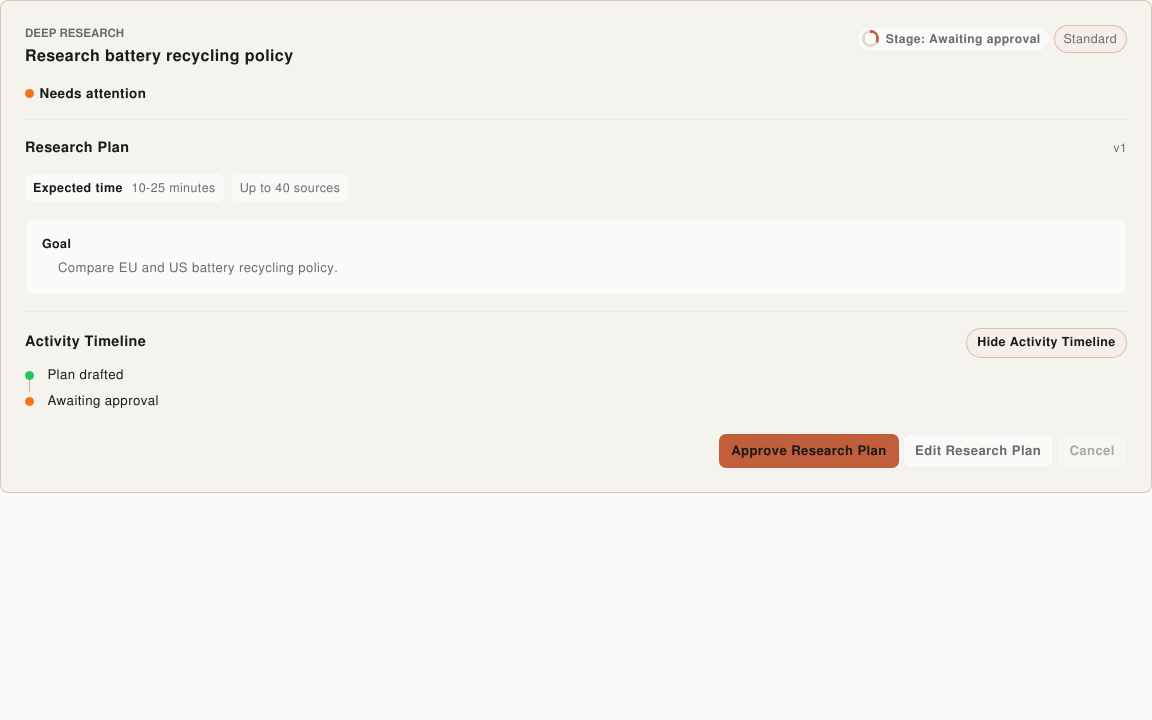
ResearchCard › shows an approval error without opening the Plan Edit form
The image size is (1152, 720).
Step 1. Click the button "Approve Research Plan" → click(809, 451), box x1=719 y1=434 x2=899 y2=468
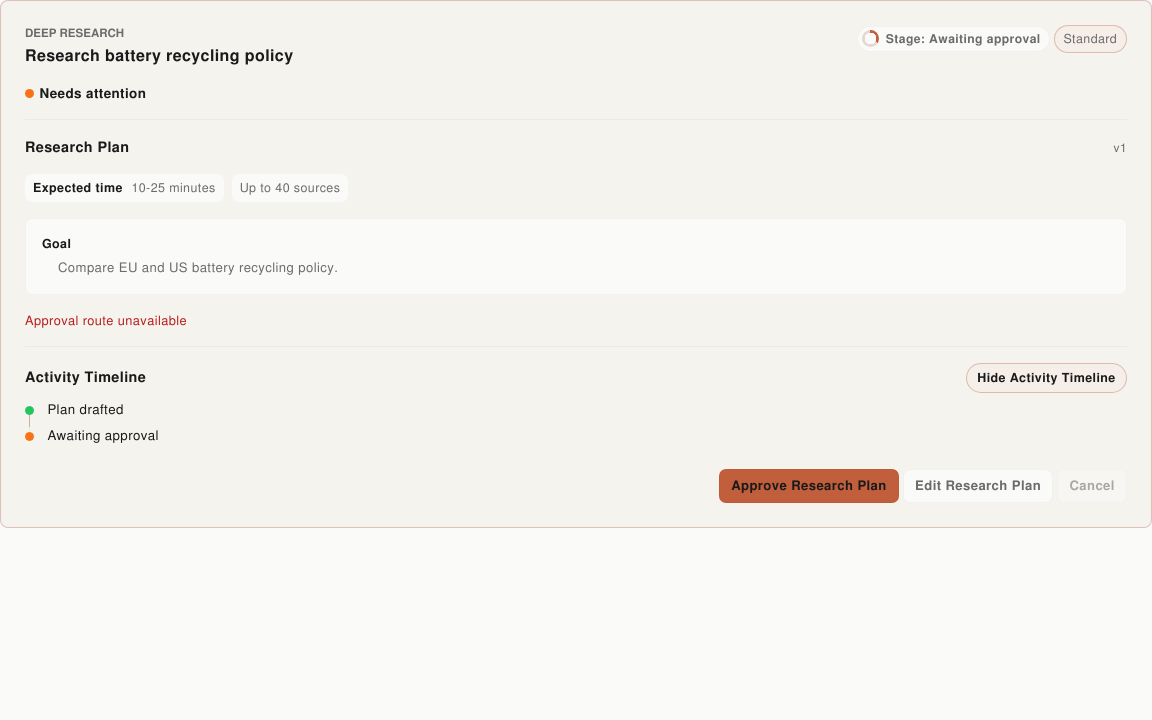
Expected: the message reads "Approval route unavailable", x1=25 y1=312 x2=187 y2=328
